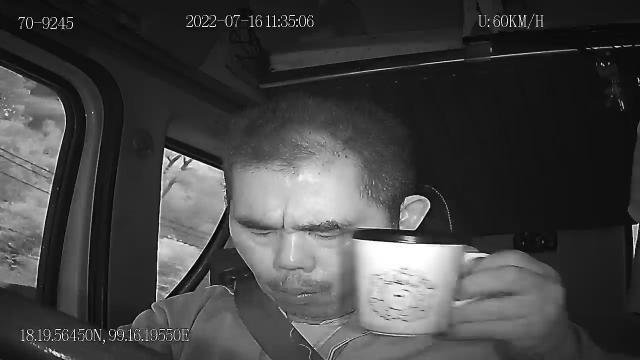Seatbelt: (230, 274, 334, 360)
